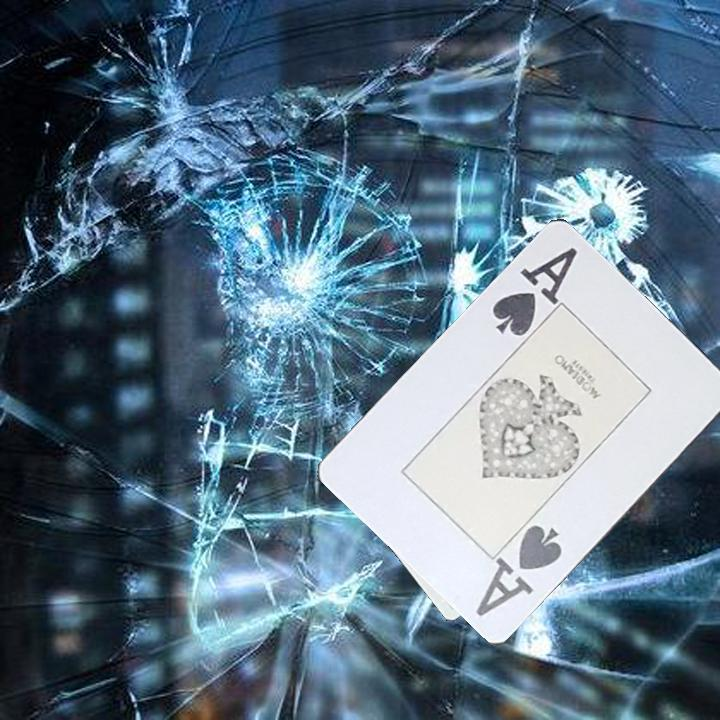As: (472, 522, 566, 621), (488, 244, 581, 341)
